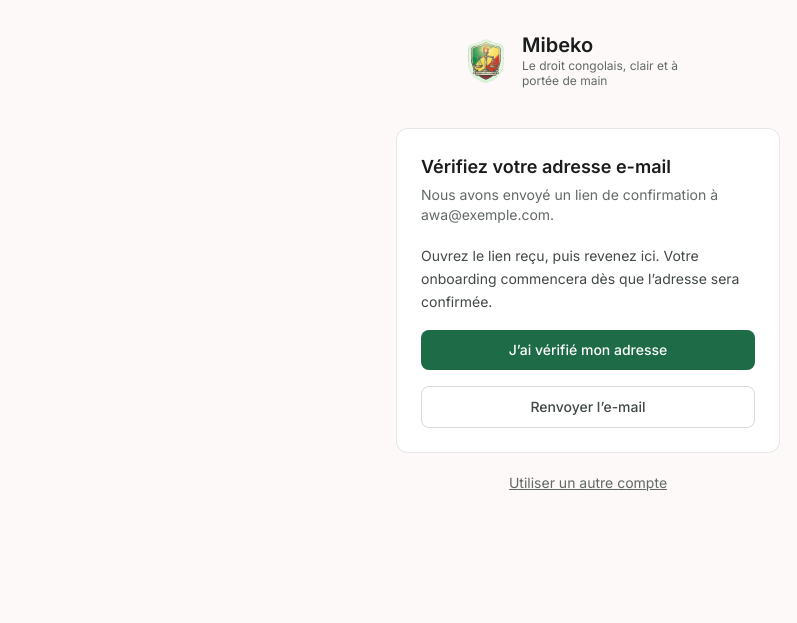
VerifyEmailPage › ouvre l’Assistant après confirmation quand l’intention a été conservée
Step 1. Click the button "J’ai vérifié mon adresse" → click(588, 350), box [421,330,755,370]
(page scrolled)
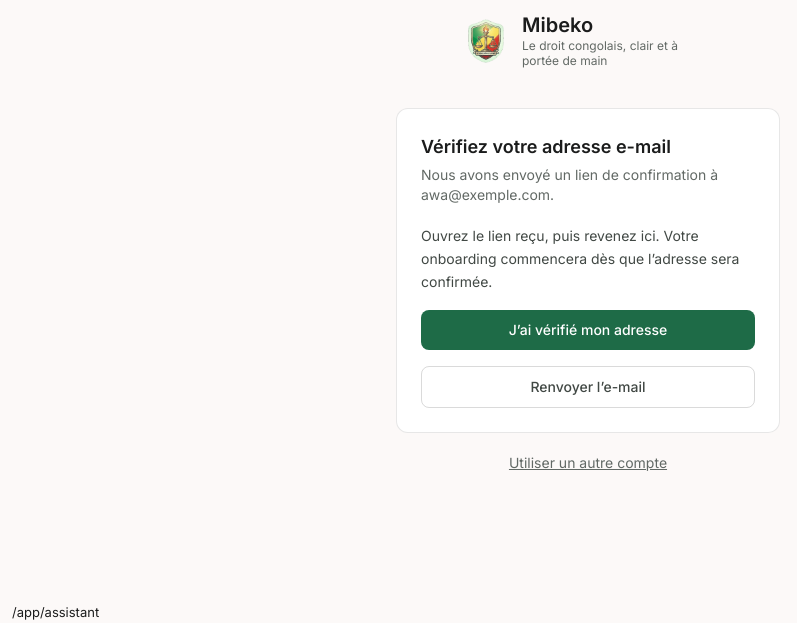
Expected: the text named "Route courante" reads "/app/assistant", [12,604,99,620]
